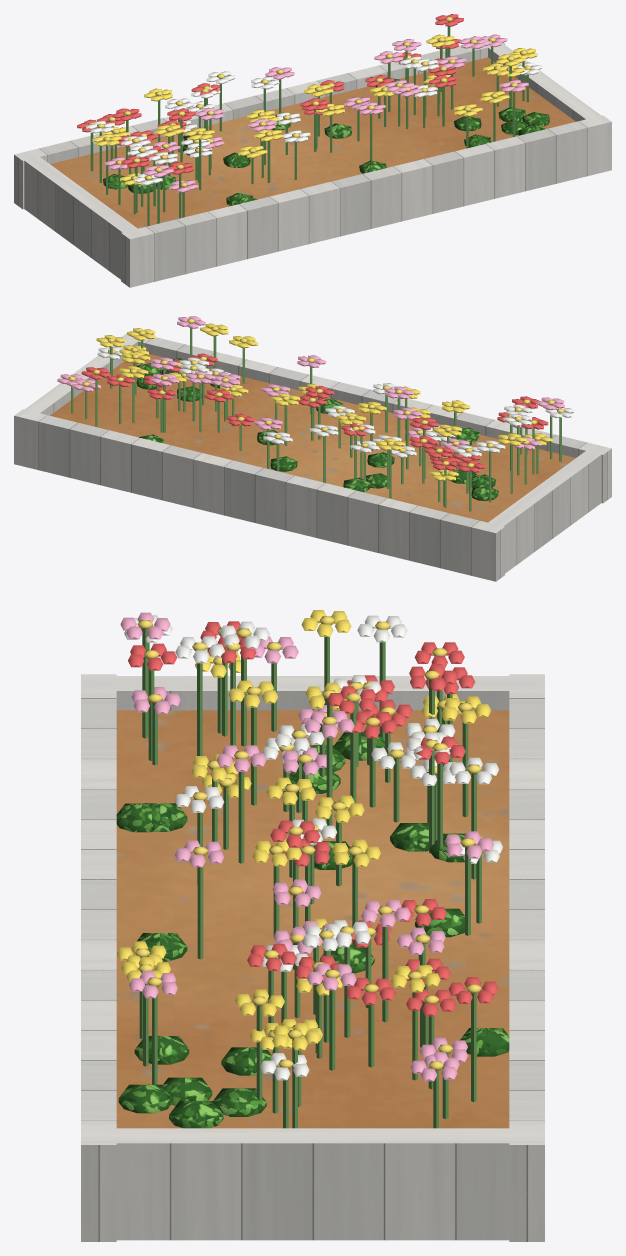
Rendered from flower_bed.glb.
3 renders of one model, top to bottom at view 1: azimuth 30°, elevation 25°; view 2: azimuth 150°, elevation 25°; view 3: azimuth 270°, elevation 25°, orthographic. The views are drawn at different scales.
Visible parts, largest first — view 1: flower_bed; view 2: flower_bed; view 3: flower_bed.
Part boxes in pixels (x1,y1,x2,y2): flower_bed: (14,14,611,287); flower_bed: (14,316,611,581); flower_bed: (81,610,544,1241).
Bounding box in the file's own units: 3.12 × 0.6023 × 1.3.
9 materials, 3 textured.
